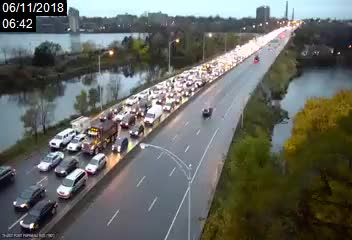congestion: (9, 121, 129, 223), (73, 97, 167, 132), (132, 82, 194, 102), (170, 69, 218, 85), (198, 57, 235, 71)
personal_car: (20, 203, 60, 229), (57, 171, 88, 199), (14, 185, 46, 209), (49, 127, 75, 148), (85, 154, 108, 177), (39, 149, 60, 172), (56, 158, 80, 177), (69, 134, 85, 156), (112, 135, 129, 154), (145, 106, 161, 126), (1, 164, 14, 184), (199, 104, 216, 118), (131, 123, 144, 139), (113, 111, 129, 124), (121, 114, 134, 127), (97, 111, 113, 121), (126, 94, 138, 106), (162, 100, 174, 112)
truck: (84, 122, 116, 155)
